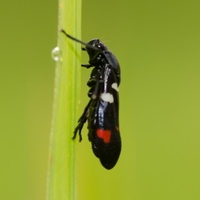insect: (61, 29, 120, 168)
